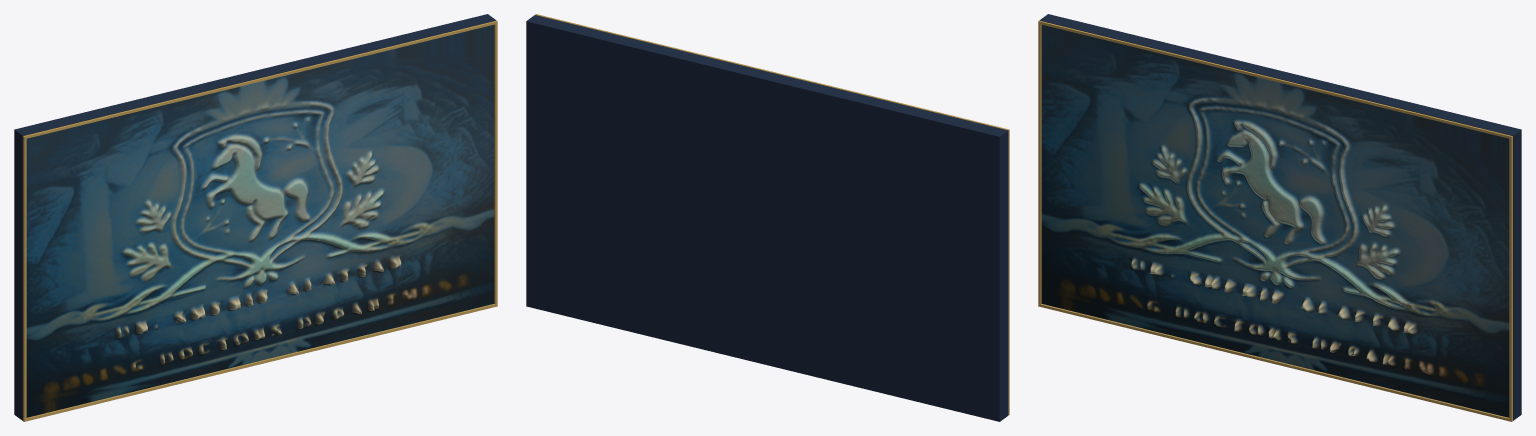
The model's file is roving-doctors-crest.glb.
The picture shows the model from 3 angles, left to right: view 1: azimuth 30°, elevation 25°; view 2: azimuth 150°, elevation 25°; view 3: azimuth 330°, elevation 25°; orthographic projection.
Visible parts, largest first — view 1: crest-relief, plate, frame-2, frame-1, frame-4, frame-3; view 2: plate, frame-1, frame-3; view 3: crest-relief, plate, frame-2, frame-1, frame-3, frame-4.
Boxes of the visible parts, bbox=[...] form: crest-relief: bbox=[26, 21, 494, 417]; plate: bbox=[14, 14, 496, 420]; frame-2: bbox=[23, 304, 497, 421]; frame-1: bbox=[23, 21, 497, 139]; frame-4: bbox=[494, 20, 497, 306]; frame-3: bbox=[23, 135, 26, 419]; plate: bbox=[526, 15, 1008, 421]; frame-1: bbox=[535, 14, 1009, 132]; frame-3: bbox=[1007, 129, 1009, 414]; crest-relief: bbox=[1041, 21, 1509, 417]; plate: bbox=[1039, 14, 1521, 420]; frame-2: bbox=[1038, 304, 1512, 421]; frame-1: bbox=[1038, 21, 1512, 139]; frame-3: bbox=[1038, 20, 1041, 305]; frame-4: bbox=[1509, 135, 1512, 419].
Size of the model in its own units: 1.6 by 0.9204 by 0.0798.
